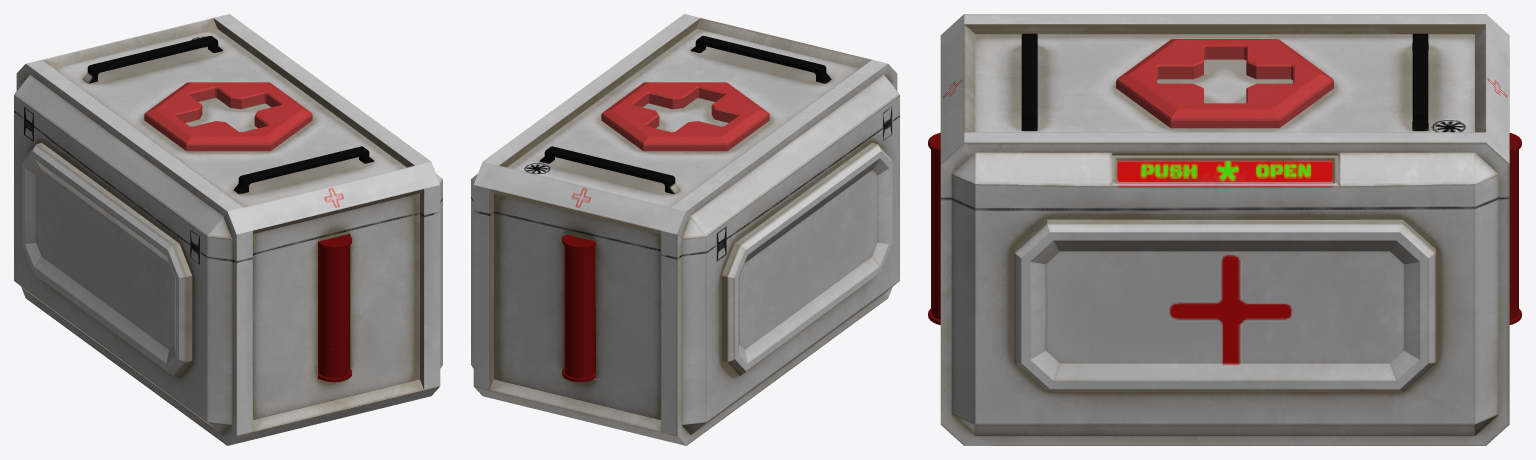
Rendered from future_first_aid_kit.glb.
3 views of the same model, side by side, from view 1: azimuth 30°, elevation 25°; view 2: azimuth 150°, elevation 25°; view 3: azimuth 270°, elevation 25° (orthographic). The views are drawn at different scales.
Visible parts, largest first — view 1: f_medbox; view 2: f_medbox; view 3: f_medbox.
Part boxes in pixels (box(x1,y1,x2,y2)): f_medbox: box(14, 14, 442, 445); f_medbox: box(471, 14, 899, 445); f_medbox: box(928, 14, 1521, 445).
Bounding box in the file's own units: 0.098 × 0.0875 × 0.152.
1 material, 1 textured.
